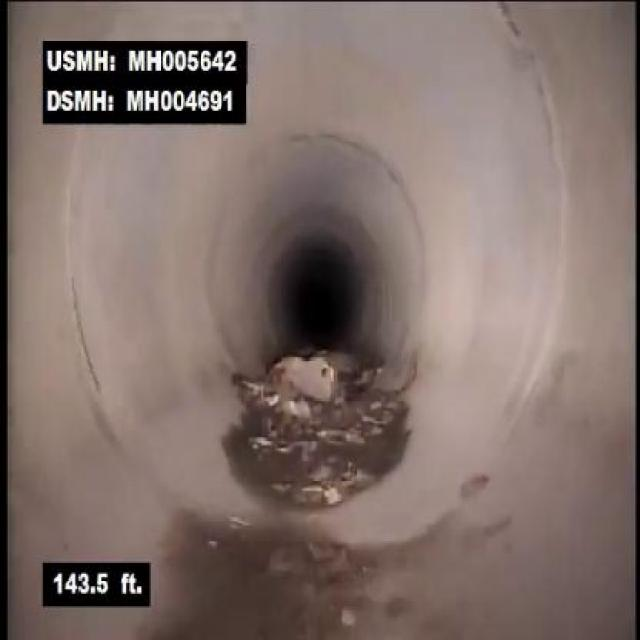Obstacle: (242, 336, 392, 456)
